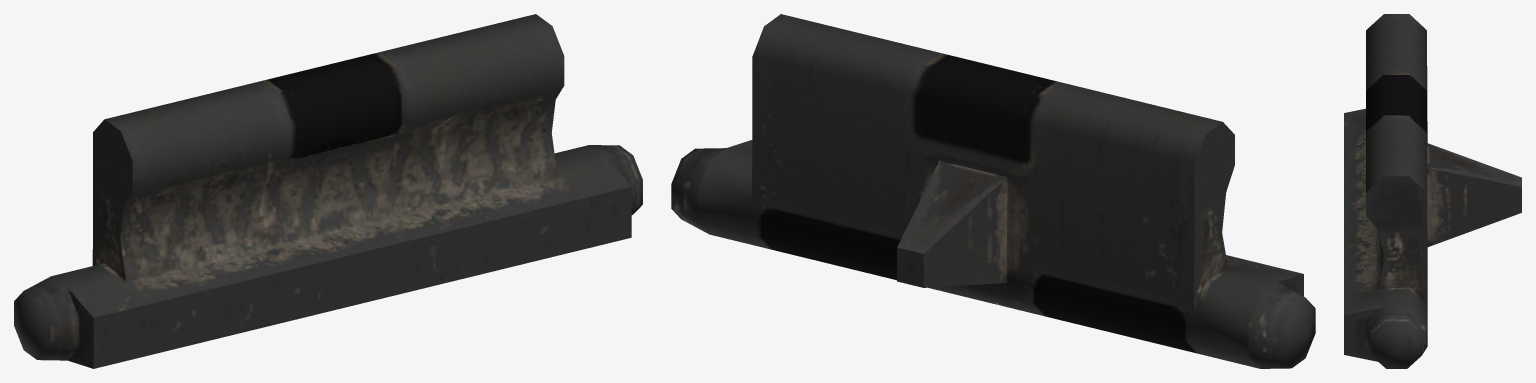
File: track.glb
3 renders of one model, left to right at view 1: azimuth 30°, elevation 25°; view 2: azimuth 150°, elevation 25°; view 3: azimuth 270°, elevation 25°, orthographic. The views are drawn at different scales.
Visible parts, largest first — view 1: set_0_group_0; view 2: set_0_group_0; view 3: set_0_group_0.
Boxes of the visible parts, box(x1,y1,x2,y2) form: set_0_group_0: box(14, 14, 642, 368); set_0_group_0: box(671, 14, 1315, 368); set_0_group_0: box(1344, 14, 1521, 368).
Size of the model in its own units: 0.3994 by 0.1345 by 0.13.
Materials: 1 (1 with a texture image).
